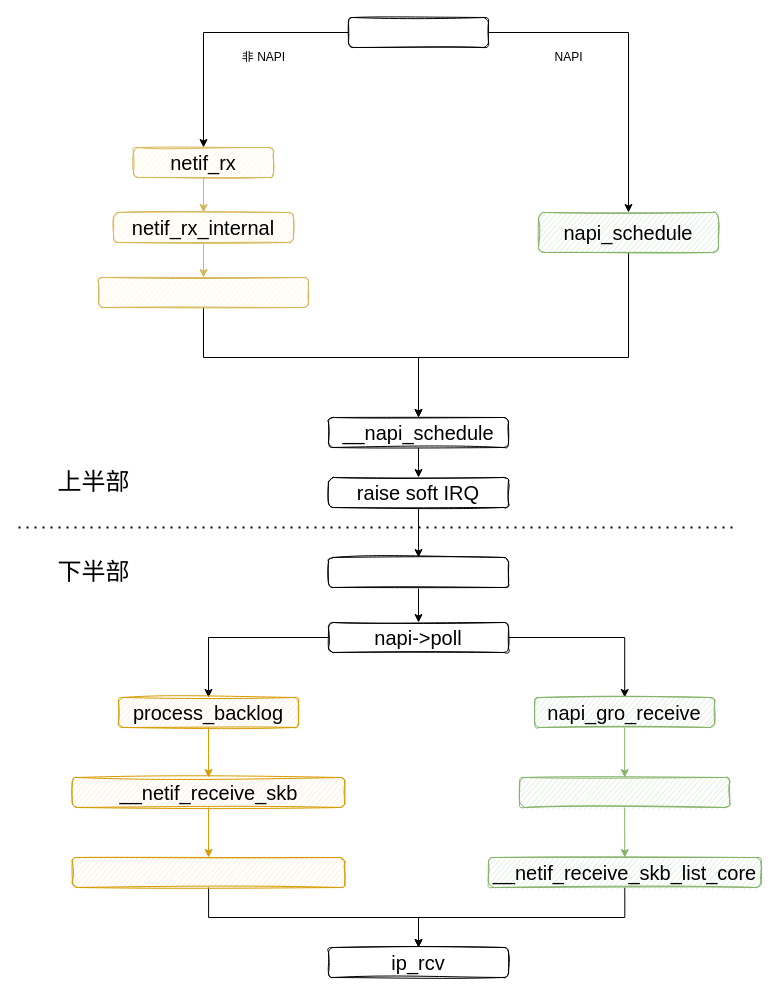
Image size: 778x995. Some labels were removed from this diagram. The shapes that lost their labels are listed below. From the top down, each one's box as (x1, y1, x2, y2) in pixels, then its label:
(348, 16, 488, 48): hw IRQ
(98, 276, 308, 308): enqueue_to_backlog
(328, 556, 508, 588): net_rx_action
(519, 776, 730, 808): napi_complete_done
(71, 856, 345, 888): __netif_receive_skb_one_core
